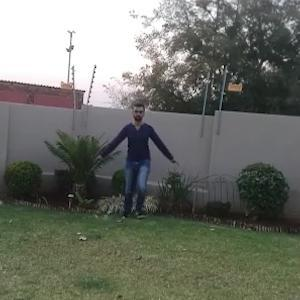land: (89, 100, 190, 232)
